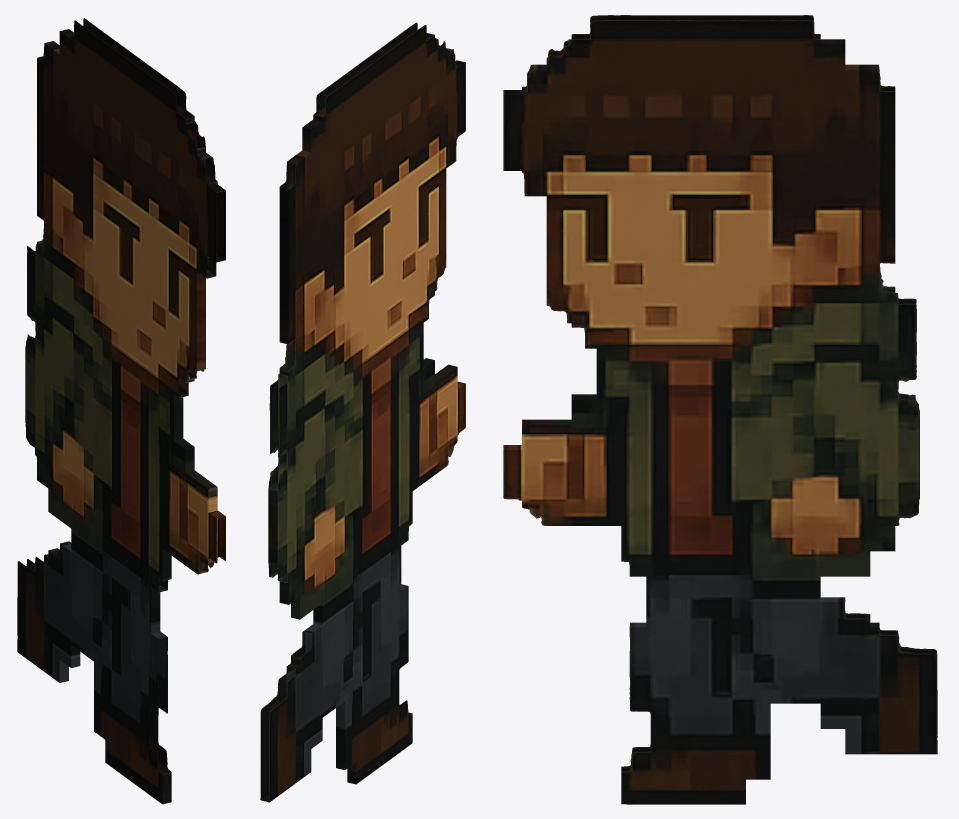
3 renders of one model, left to right at view 1: azimuth 30°, elevation 25°; view 2: azimuth 150°, elevation 25°; view 3: azimuth 270°, elevation 25°, orthographic. The views are drawn at different scales.
Parts seen in each view (by area): view 1: ChatGPT Image 12_06_2025, 19_22_11.004; view 2: ChatGPT Image 12_06_2025, 19_22_11.004; view 3: ChatGPT Image 12_06_2025, 19_22_11.004.
Part boxes in pixels (left/top/right/bottom): ChatGPT Image 12_06_2025, 19_22_11.004: left=17, top=18, right=225, bottom=804; ChatGPT Image 12_06_2025, 19_22_11.004: left=260, top=22, right=465, bottom=802; ChatGPT Image 12_06_2025, 19_22_11.004: left=503, top=15, right=937, bottom=804.
Bounding box in the file's own units: 1 × 74.92 × 38.69.
1 material, 1 textured.
